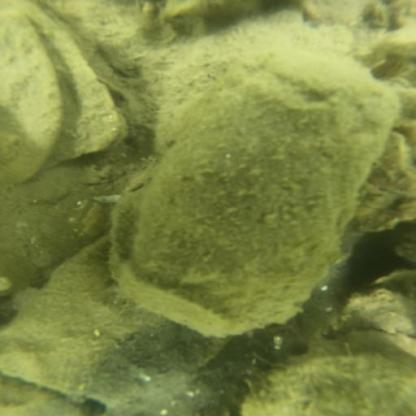3: (103, 42, 404, 334)
Oyster-Closed: (0, 236, 227, 410), (0, 1, 63, 183)
Oyster-Open: (0, 1, 124, 166)
